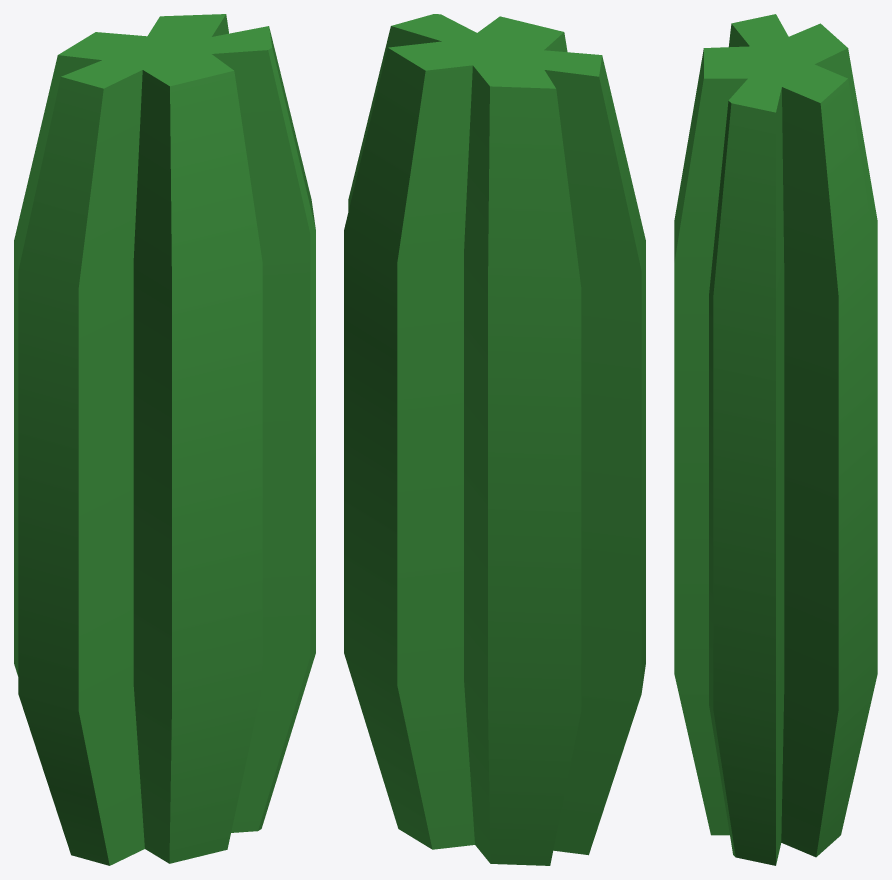
File: Vegetation_Cactus_06.fbx
3 renders of one model, left to right at view 1: azimuth 30°, elevation 25°; view 2: azimuth 150°, elevation 25°; view 3: azimuth 270°, elevation 25°, orthographic. The views are drawn at different scales.
Parts seen in each view (by area): view 1: Vegetation_Cactus_06; view 2: Vegetation_Cactus_06; view 3: Vegetation_Cactus_06.
Part boxes in pixels (x1,y1,x2,y2): Vegetation_Cactus_06: [14, 14, 315, 865]; Vegetation_Cactus_06: [344, 14, 645, 865]; Vegetation_Cactus_06: [674, 14, 877, 865].
Size of the model in its own units: 19.29 by 49.09 by 11.93.
